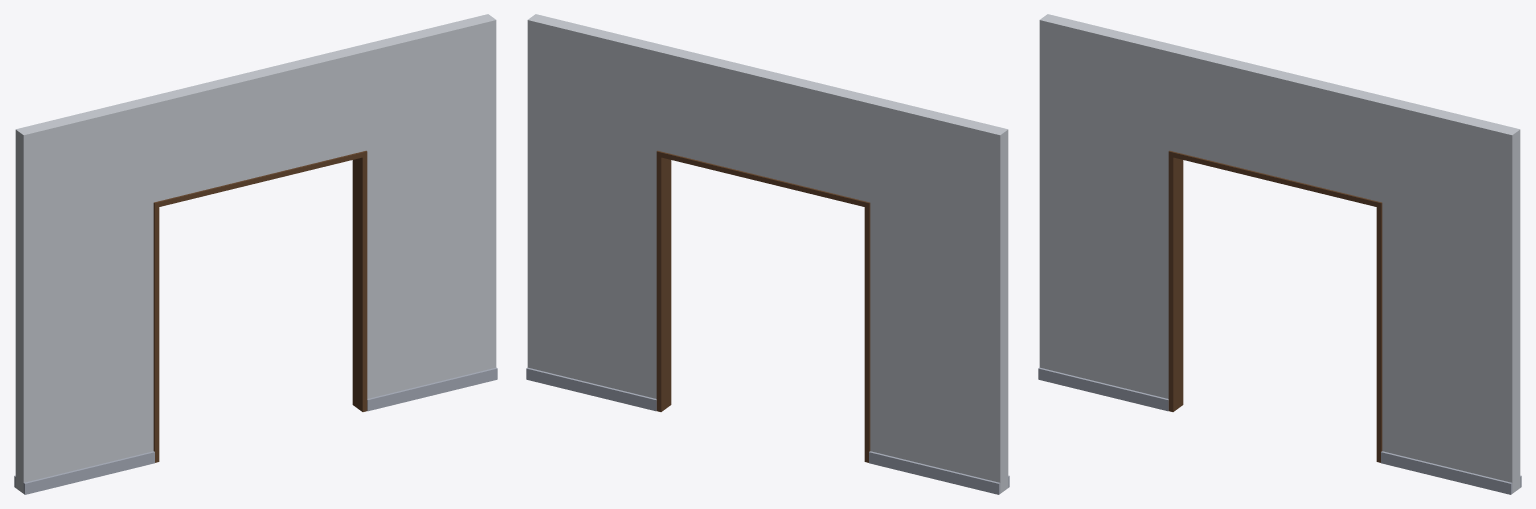
The model's file is str-009.glb.
3 renders of one model, left to right at view 1: azimuth 30°, elevation 25°; view 2: azimuth 150°, elevation 25°; view 3: azimuth 330°, elevation 25°, orthographic.
Visible parts, largest first — view 1: wall, walnut, skirting; view 2: wall, walnut, skirting; view 3: wall, walnut, skirting.
Boxes of the visible parts, x1=… form: wall: x1=15, y1=14, x2=496, y2=493; walnut: x1=153, y1=150, x2=367, y2=462; skirting: x1=14, y1=367, x2=497, y2=494; wall: x1=527, y1=14, x2=1008, y2=493; walnut: x1=656, y1=150, x2=870, y2=462; skirting: x1=526, y1=367, x2=1009, y2=494; wall: x1=1039, y1=14, x2=1520, y2=493; walnut: x1=1168, y1=150, x2=1382, y2=462; skirting: x1=1038, y1=367, x2=1521, y2=494.
Bounding box in the file's own units: 4 × 2.9 × 0.16.
